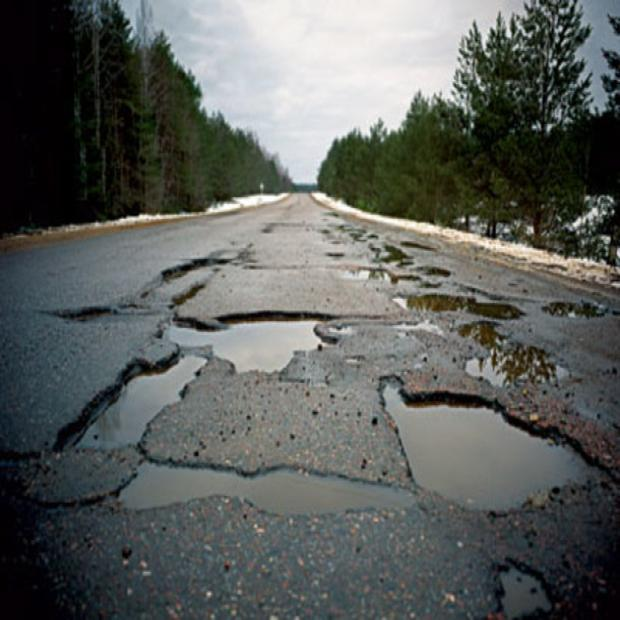lubang: (53, 310, 340, 450), (379, 374, 585, 510), (120, 463, 413, 515), (138, 244, 254, 306), (457, 321, 567, 386), (487, 562, 551, 619), (395, 295, 524, 320), (337, 226, 413, 265), (339, 265, 450, 287), (542, 299, 619, 318), (37, 307, 132, 321)
